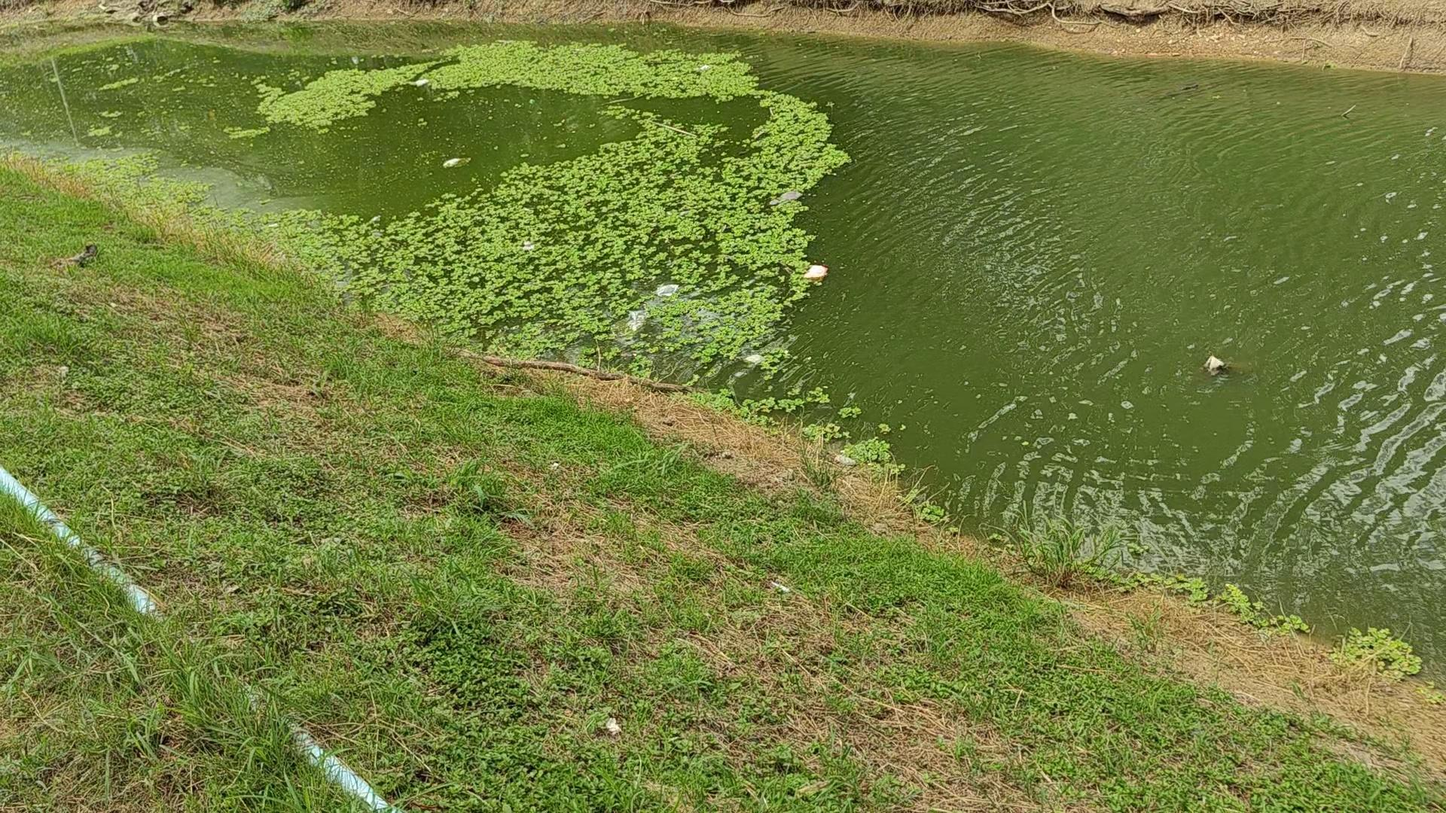trash: (618, 308, 647, 344), (1203, 355, 1226, 374), (770, 190, 801, 204), (804, 263, 828, 280), (657, 284, 679, 297), (443, 157, 464, 167), (744, 354, 763, 364), (413, 78, 429, 86), (523, 240, 534, 251), (369, 215, 380, 224), (698, 64, 711, 71)
